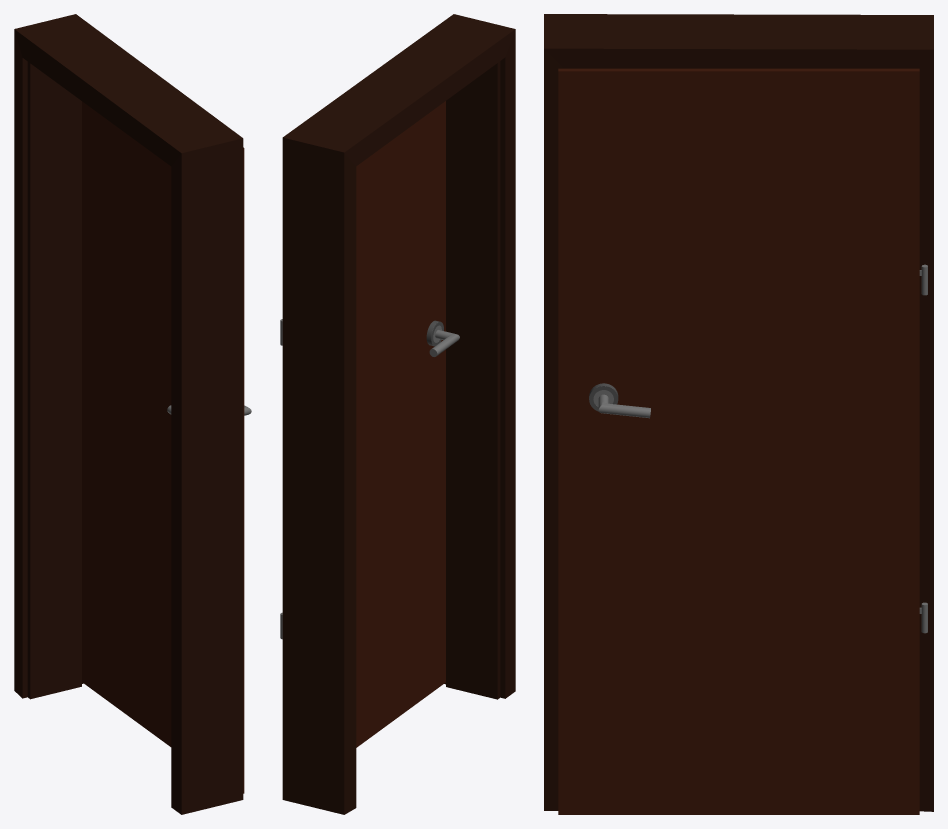
File: door20.obj
3 views of the same model, side by side, from view 1: azimuth 30°, elevation 25°; view 2: azimuth 150°, elevation 25°; view 3: azimuth 270°, elevation 25° (orthographic). The views are drawn at different scales.
Visible parts, largest first — view 1: Cylinder.005, Cylinder.001; view 2: Cylinder.005, Cylinder.001; view 3: Cylinder.001, Cylinder.005.
Boxes of the visible parts, x1,y1,x2,y2 form: Cylinder.005: (14,14,243,814); Cylinder.001: (82,101,244,793); Cylinder.005: (280,14,515,814); Cylinder.001: (280,101,445,747); Cylinder.001: (558,68,927,814); Cylinder.005: (544,14,933,811).
Size of the model in its own units: 0.3039 by 2.05 by 0.95.
